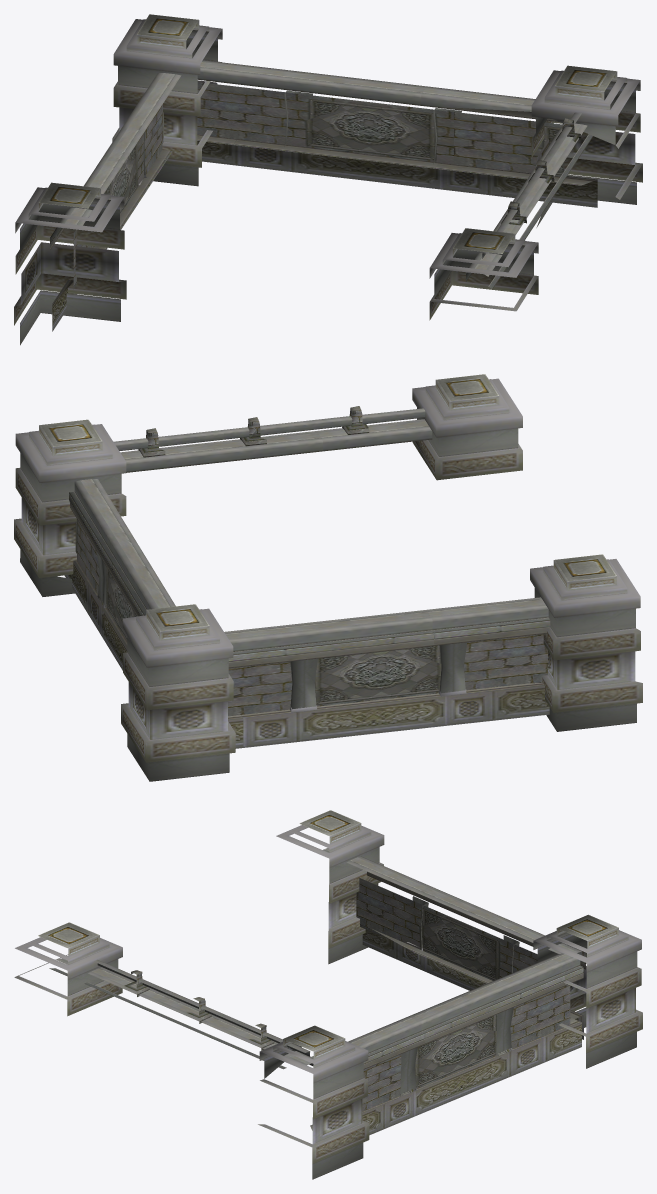
File: S2_Build_XSC082_L1.FBX
3 views of the same model, one above another, from view 1: azimuth 30°, elevation 25°; view 2: azimuth 150°, elevation 25°; view 3: azimuth 270°, elevation 25° (orthographic). The views are drawn at different scales.
Parts seen in each view (by area): view 1: S2_Build_XSC082_L1; view 2: S2_Build_XSC082_L1; view 3: S2_Build_XSC082_L1.
Part boxes in pixels (box(x1,y1,x2,y2)): S2_Build_XSC082_L1: box(14, 14, 642, 345); S2_Build_XSC082_L1: box(14, 374, 642, 781); S2_Build_XSC082_L1: box(14, 810, 642, 1179).
Size of the model in its own units: 2943 by 626 by 2977.
